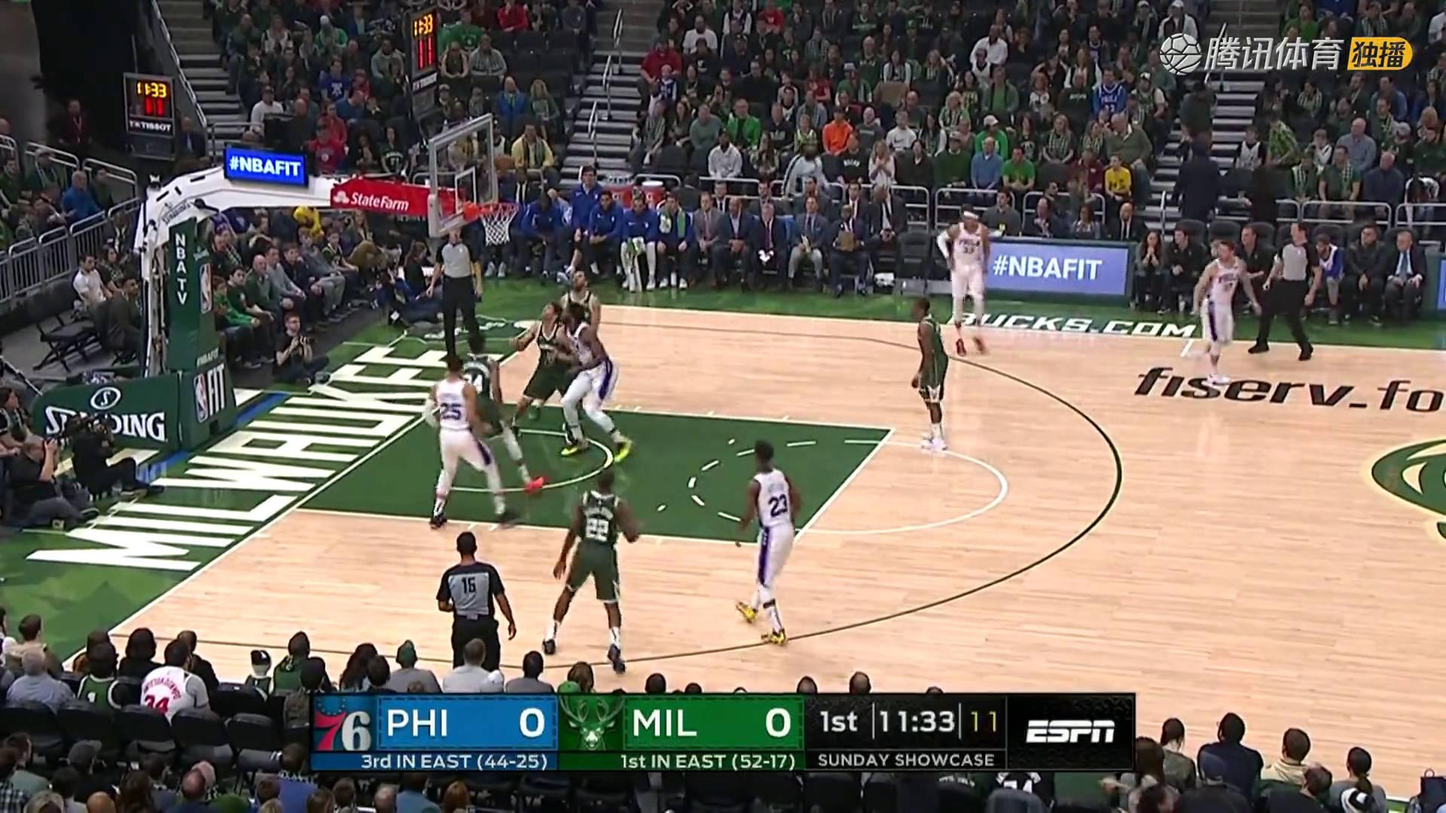basketball: (494, 154, 515, 178)
